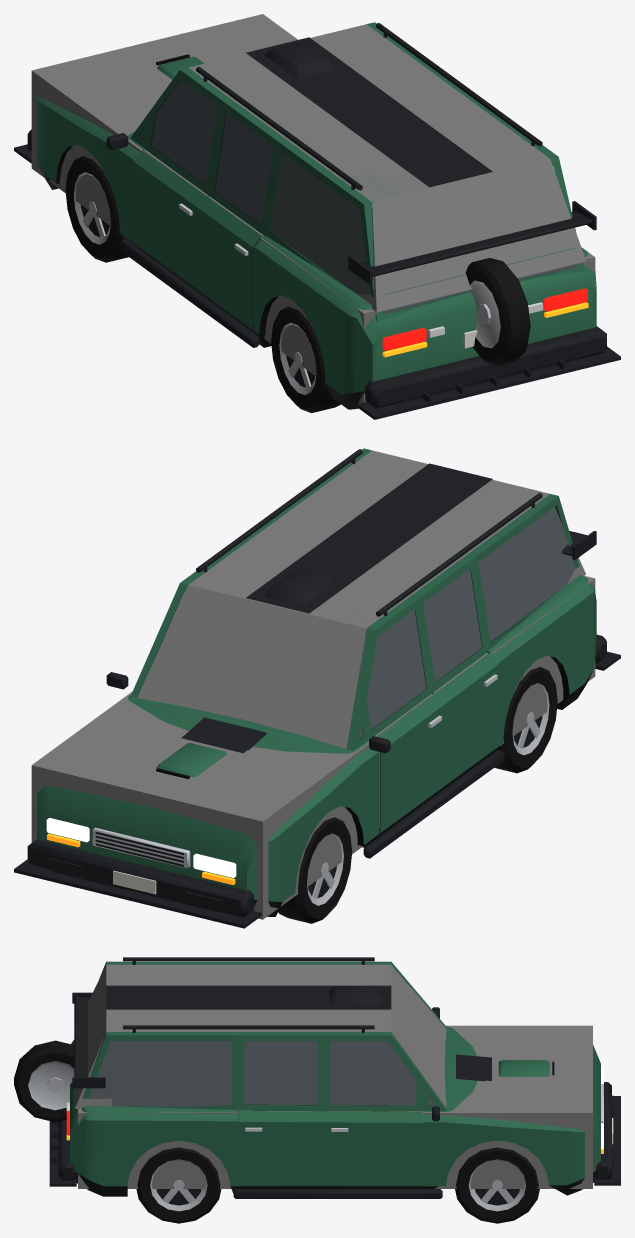
File: suv.glb
3 renders of one model, top to bottom at view 1: azimuth 30°, elevation 25°; view 2: azimuth 150°, elevation 25°; view 3: azimuth 270°, elevation 25°, orthographic. The views are drawn at different scales.
Visible parts, largest first — view 1: suv, suv_Body, suv_Cabin, suv_Door_FL, suv_Door_RL, suv_Wheel_RL, suv_Wheel_FL; view 2: suv, suv_Body, suv_Cabin, suv_Door_FL, suv_Door_RL, suv_Wheel_FL, suv_Wheel_RL; view 3: suv, suv_Body, suv_Door_FR, suv_Cabin, suv_Door_RR, suv_Wheel_RR, suv_Wheel_FR.
Part boxes in pixels (x1,y1,x2,y2): suv: (14, 14, 620, 419); suv_Body: (36, 23, 596, 409); suv_Cabin: (130, 22, 585, 322); suv_Door_FL: (134, 70, 223, 288); suv_Door_RL: (197, 101, 278, 329); suv_Wheel_RL: (271, 306, 340, 413); suv_Wheel_FL: (65, 156, 128, 262); suv: (14, 450, 620, 928); suv_Body: (37, 449, 596, 916); suv_Cabin: (130, 448, 579, 750); suv_Door_FL: (362, 599, 443, 832); suv_Door_RL: (418, 558, 499, 786); suv_Wheel_FL: (278, 817, 352, 923); suv_Wheel_RL: (494, 666, 557, 773); suv: (49, 964, 620, 1198); suv_Body: (14, 957, 603, 1196); suv_Door_FR: (324, 1035, 422, 1185); suv_Cabin: (75, 961, 446, 1116); suv_Door_RR: (238, 1035, 324, 1185); suv_Wheel_RR: (136, 1147, 221, 1223); suv_Wheel_FR: (455, 1147, 539, 1223).
Size of what is drawn, in the model's own units: 2.25 by 1.87 by 5.43.
